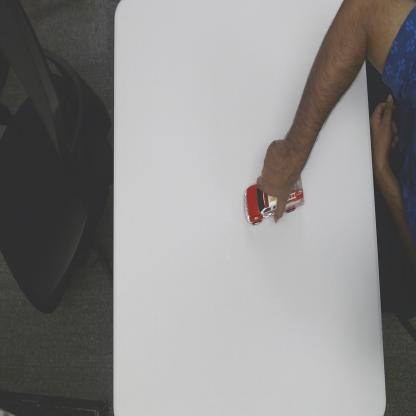Arm: (300, 0, 374, 178)
Firetruck: (242, 171, 307, 230)
Hand: (260, 131, 301, 222)
